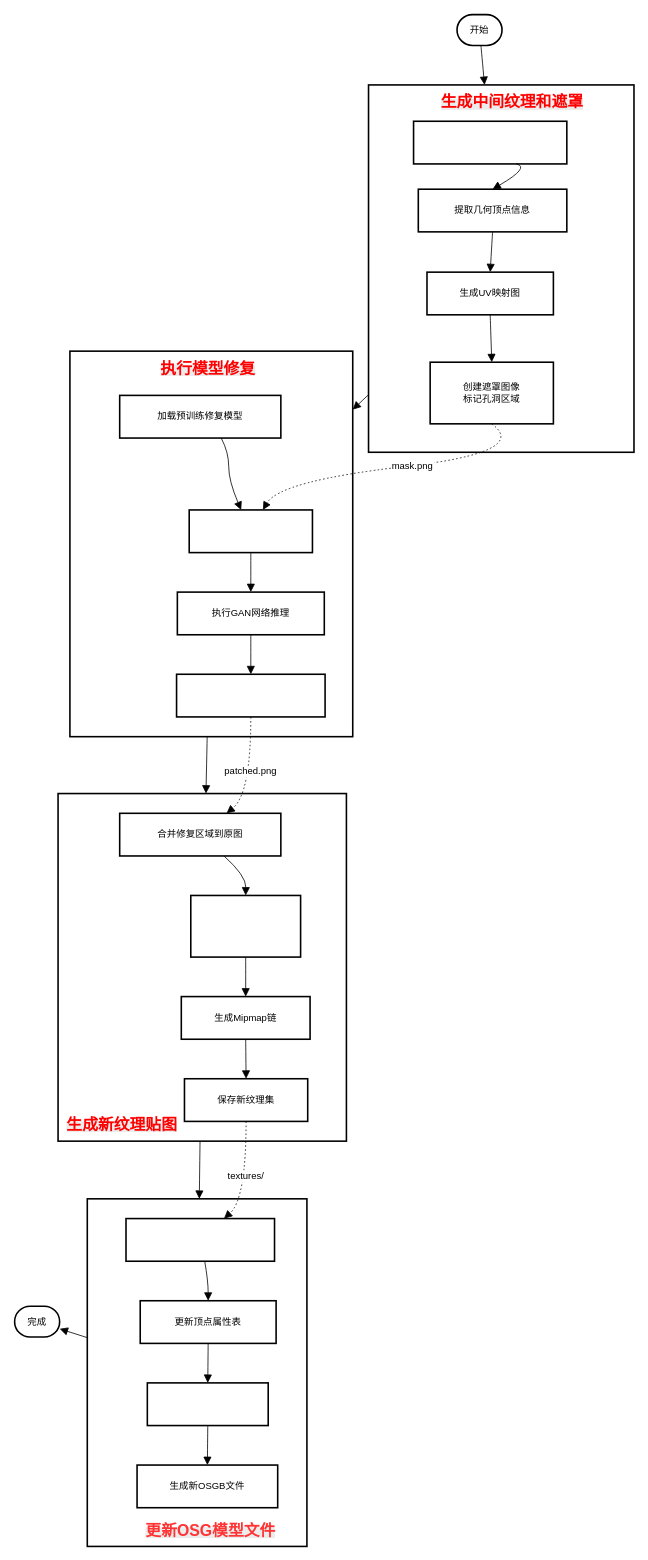
This 648x1560 diagram has some shape labels left out. The box of each missing label's shape, as (x1, y1, x2, y2) in pixels:
修改纹理路径引用: (125, 1217, 275, 1262)
格式转换 JPEG→DDS: (190, 894, 301, 957)
解析OSGB模型数据: (412, 120, 567, 164)
输入掩膜区域: (188, 509, 313, 553)
输出修复纹理区域: (175, 673, 325, 717)
重建LOD层级: (146, 1382, 269, 1426)
